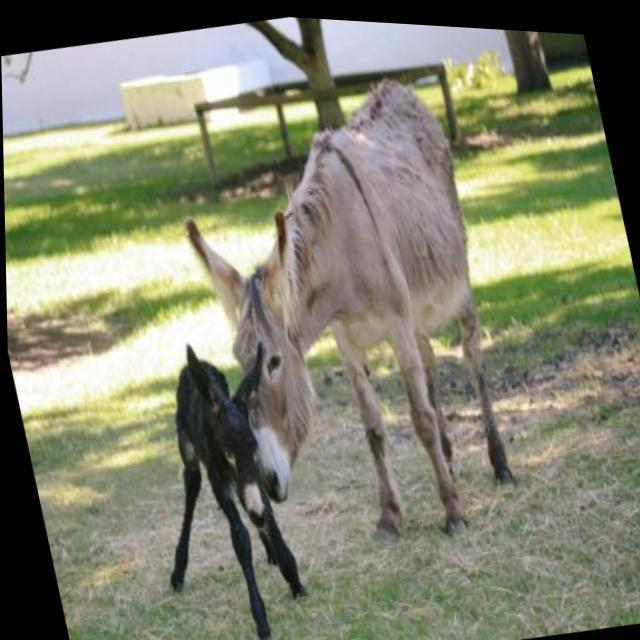Donkey: (159, 54, 529, 572), (118, 326, 326, 640)
